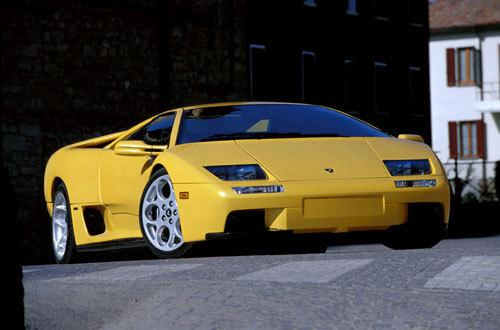Car: (26, 98, 476, 282)
